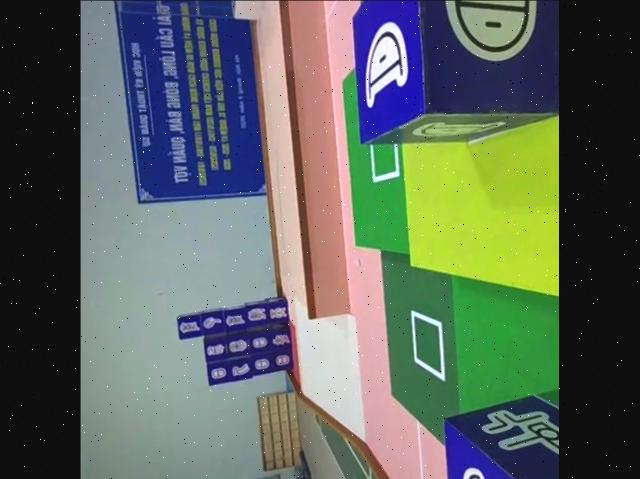R2 Real Blue: (353, 0, 559, 145), (446, 395, 559, 479)
